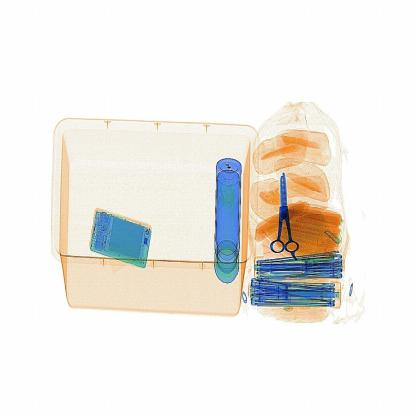gun: (269, 163, 302, 257)
